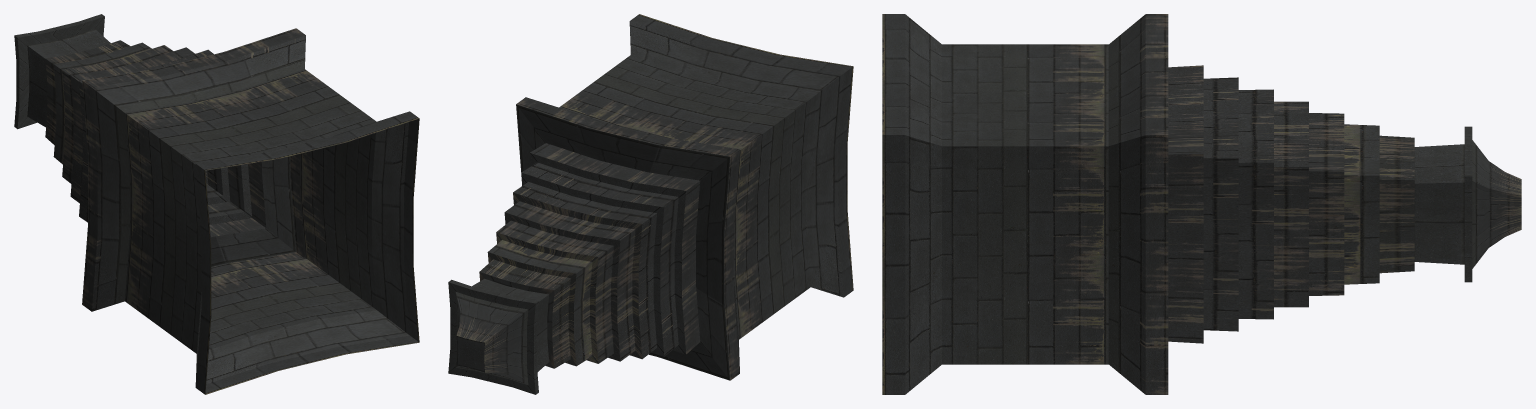
The model's file is Candi_02.fbx.
3 renders of one model, left to right at view 1: azimuth 30°, elevation 25°; view 2: azimuth 150°, elevation 25°; view 3: azimuth 270°, elevation 25°, orthographic. The views are drawn at different scales.
Visible parts, largest first — view 1: Candi_02; view 2: Candi_02; view 3: Candi_02.
Boxes of the visible parts, box(x1,y1,x2,y2) form: Candi_02: box(14, 14, 419, 394); Candi_02: box(448, 14, 853, 394); Candi_02: box(882, 14, 1521, 394).
Bounding box in the file's own units: 200 × 200 × 446.
1 material, 1 textured.
